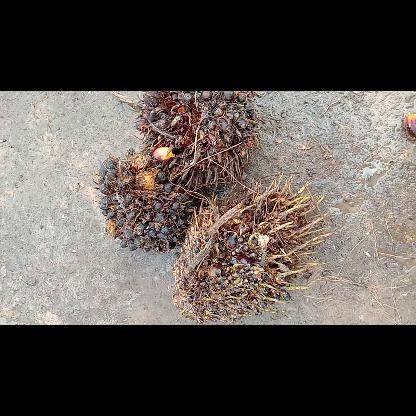TBS abnormal: (171, 180, 331, 324), (132, 90, 260, 186), (94, 150, 198, 250)
